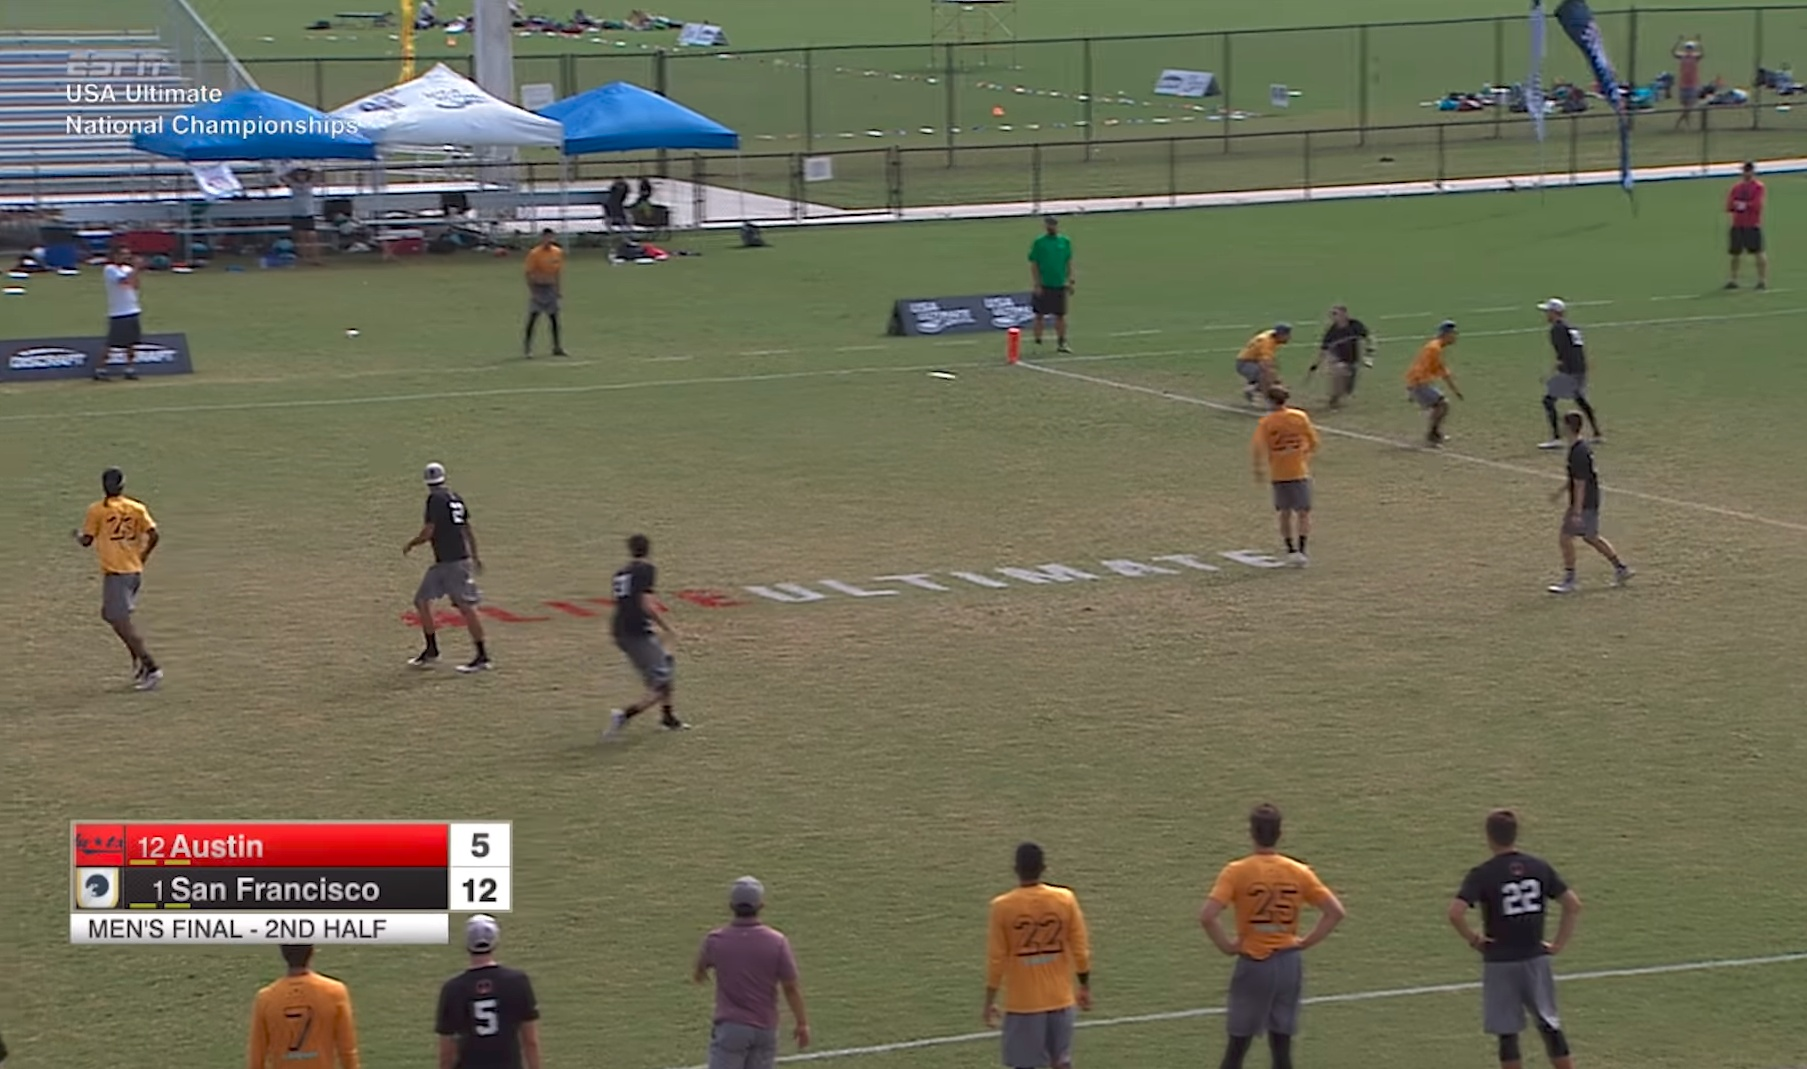frisbee: (926, 369, 956, 381)
